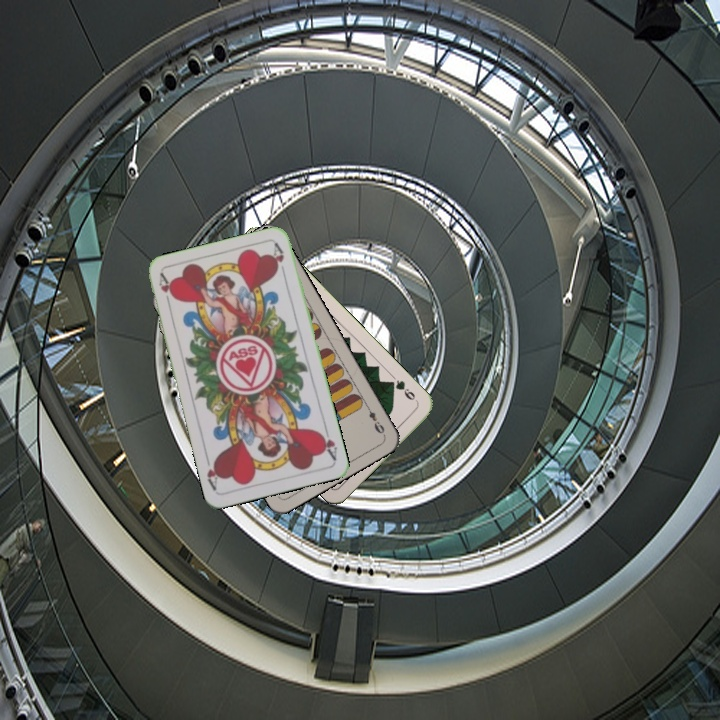E9: (362, 401, 387, 438)
G9: (385, 375, 421, 406)
HA: (315, 423, 339, 463), (155, 270, 177, 310)
